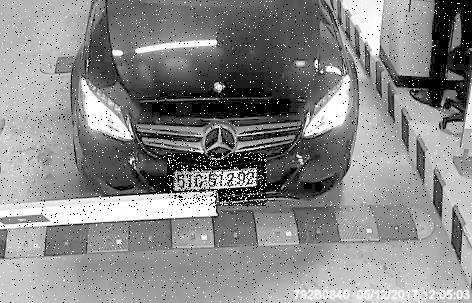License-plate: (169, 154, 269, 207)
